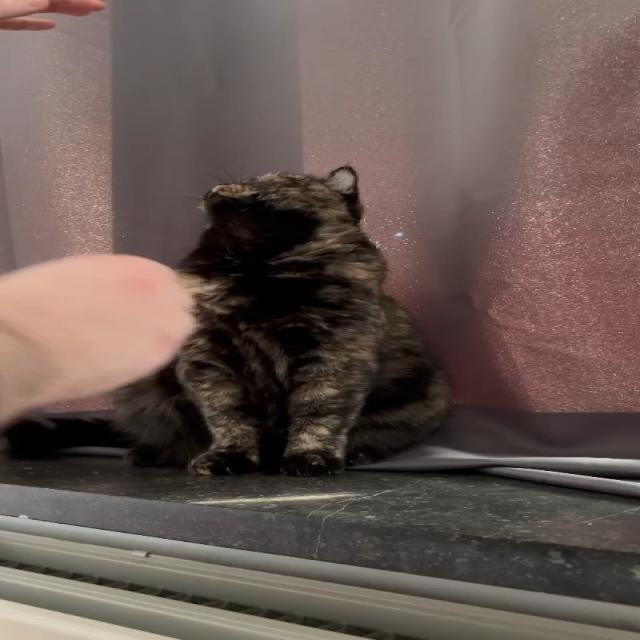authorized: (109, 164, 452, 477)
